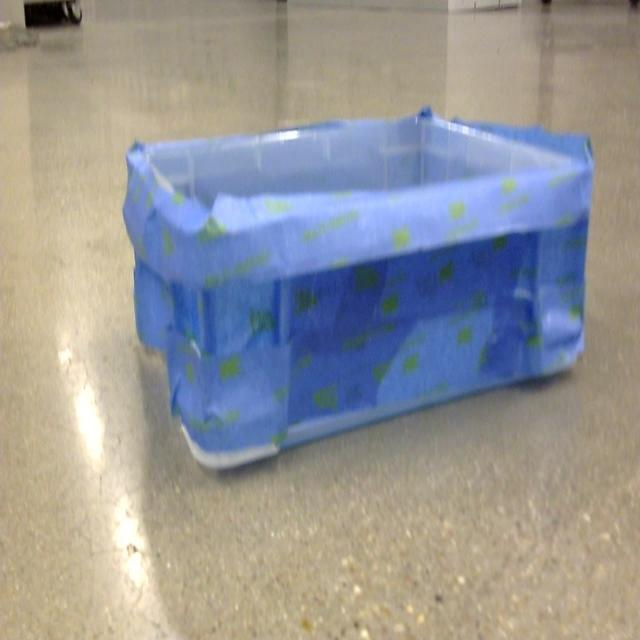bucket: (122, 108, 596, 476)
